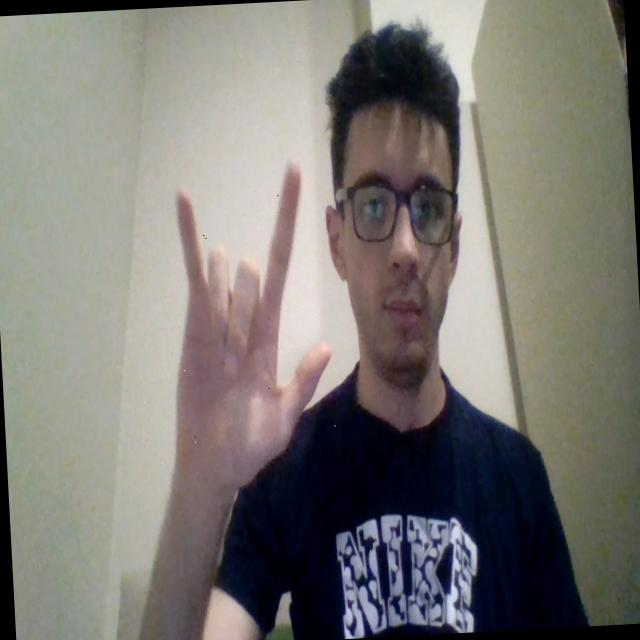iloveyou: (158, 156, 339, 498)
